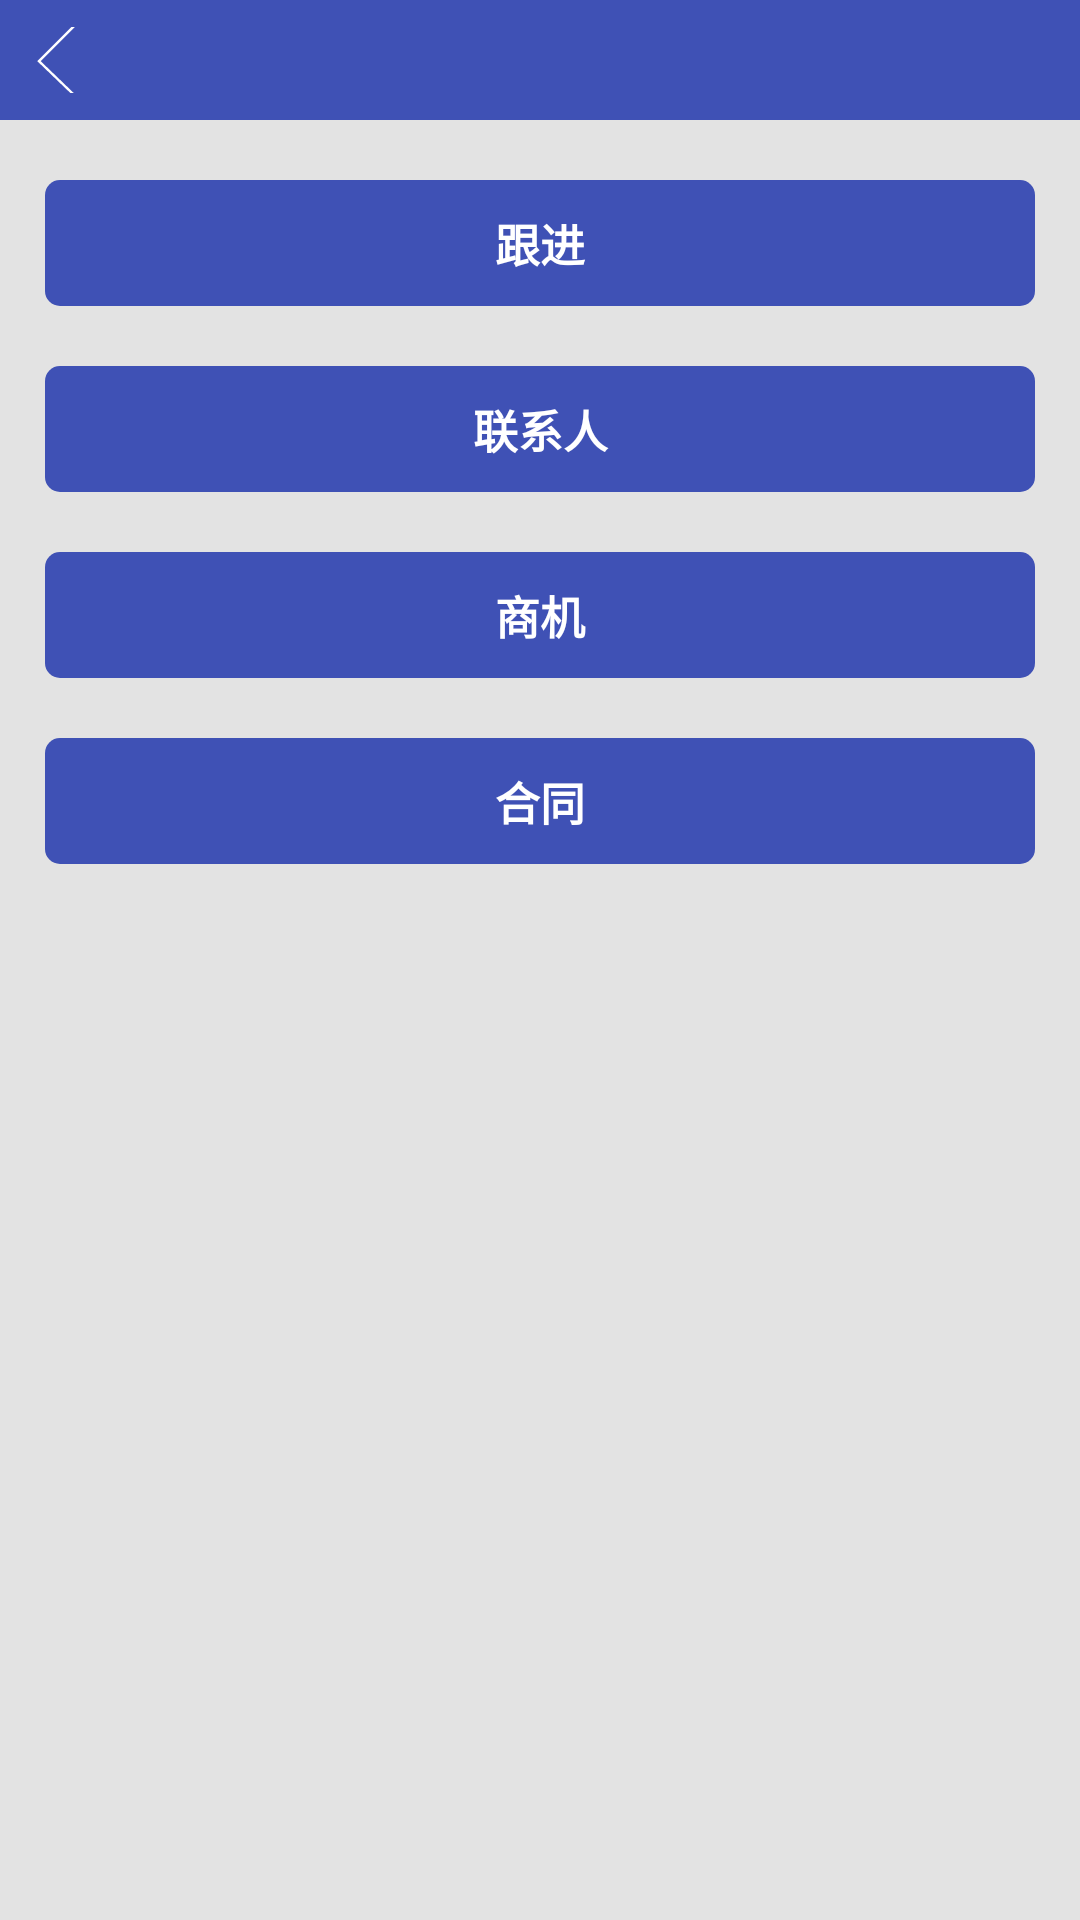

Icon click points for this 1080*1920 phone screenshot, format [x,y]:
back: [56,60]
